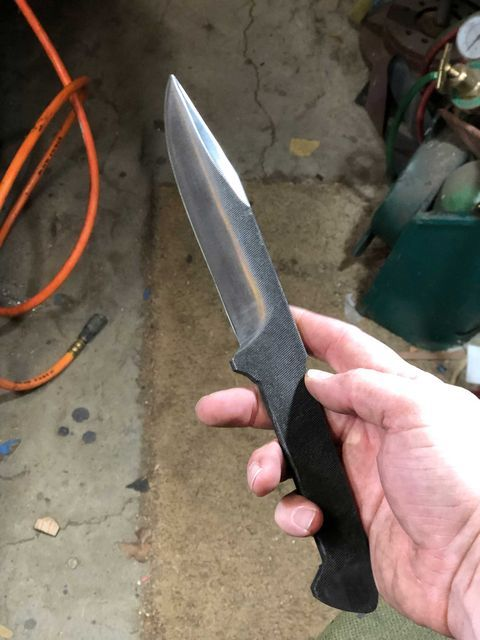knife: (159, 70, 381, 620)
